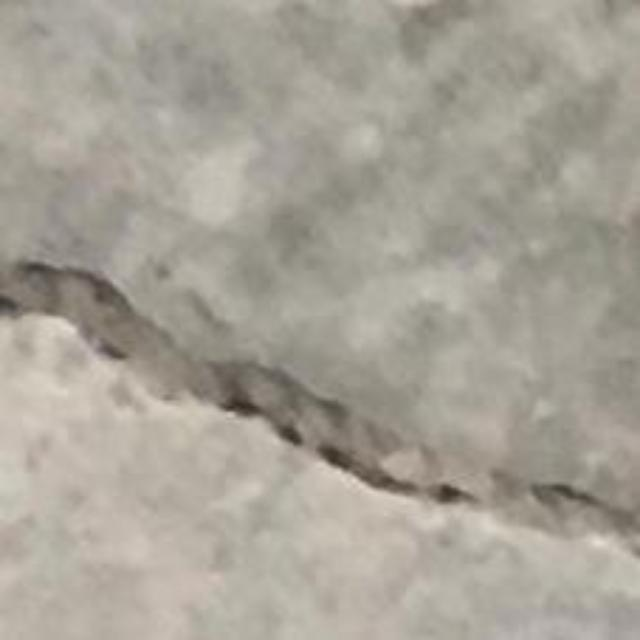crack: (0, 263, 479, 504)
